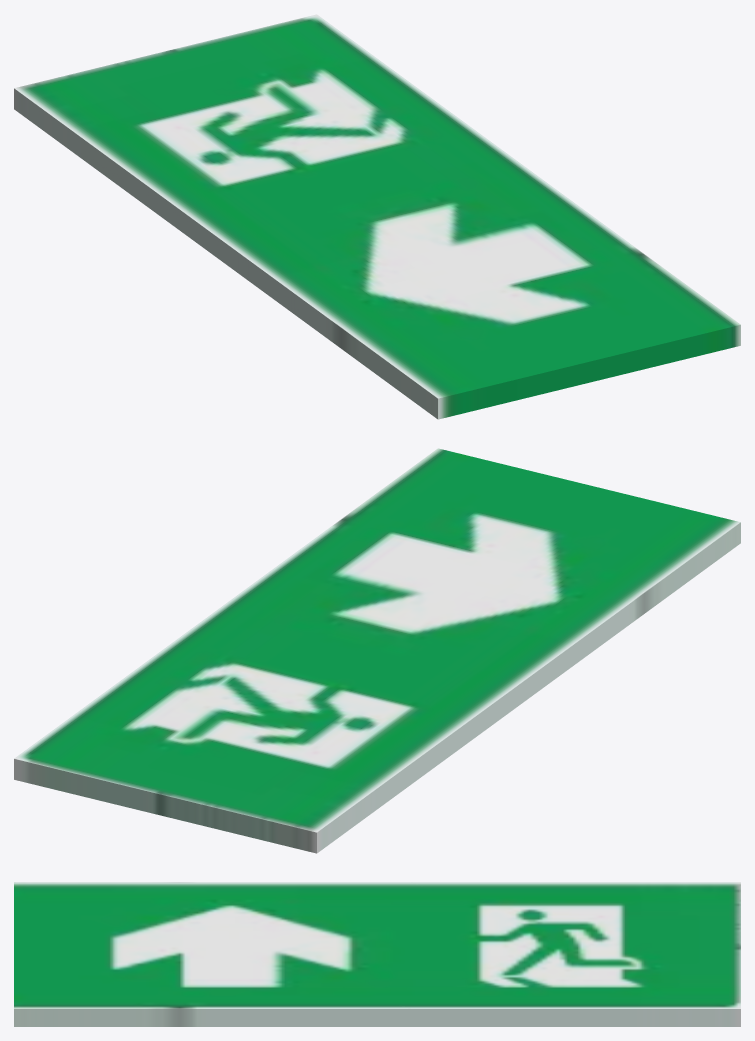
File: exit_sign.fbx
3 renders of one model, top to bottom at view 1: azimuth 30°, elevation 25°; view 2: azimuth 150°, elevation 25°; view 3: azimuth 270°, elevation 25°, orthographic. The views are drawn at different scales.
Parts seen in each view (by area): view 1: Plane; view 2: Plane; view 3: Plane.
Boxes of the visible parts, x1,y1,x2,y2 form: Plane: [14, 14, 740, 419]; Plane: [14, 448, 740, 853]; Plane: [14, 882, 740, 1026].
Size of the model in its own units: 151 by 10 by 366.
Materials: 1 (1 with a texture image).
